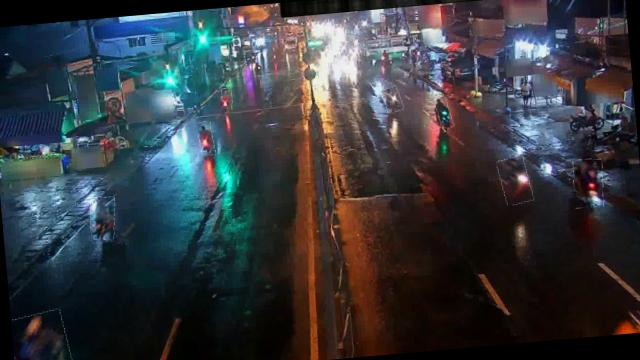Bike: (11, 310, 74, 360), (498, 156, 532, 206), (572, 158, 605, 209), (88, 195, 117, 240), (197, 122, 215, 156), (435, 96, 452, 130), (382, 86, 402, 114), (220, 88, 233, 112)
